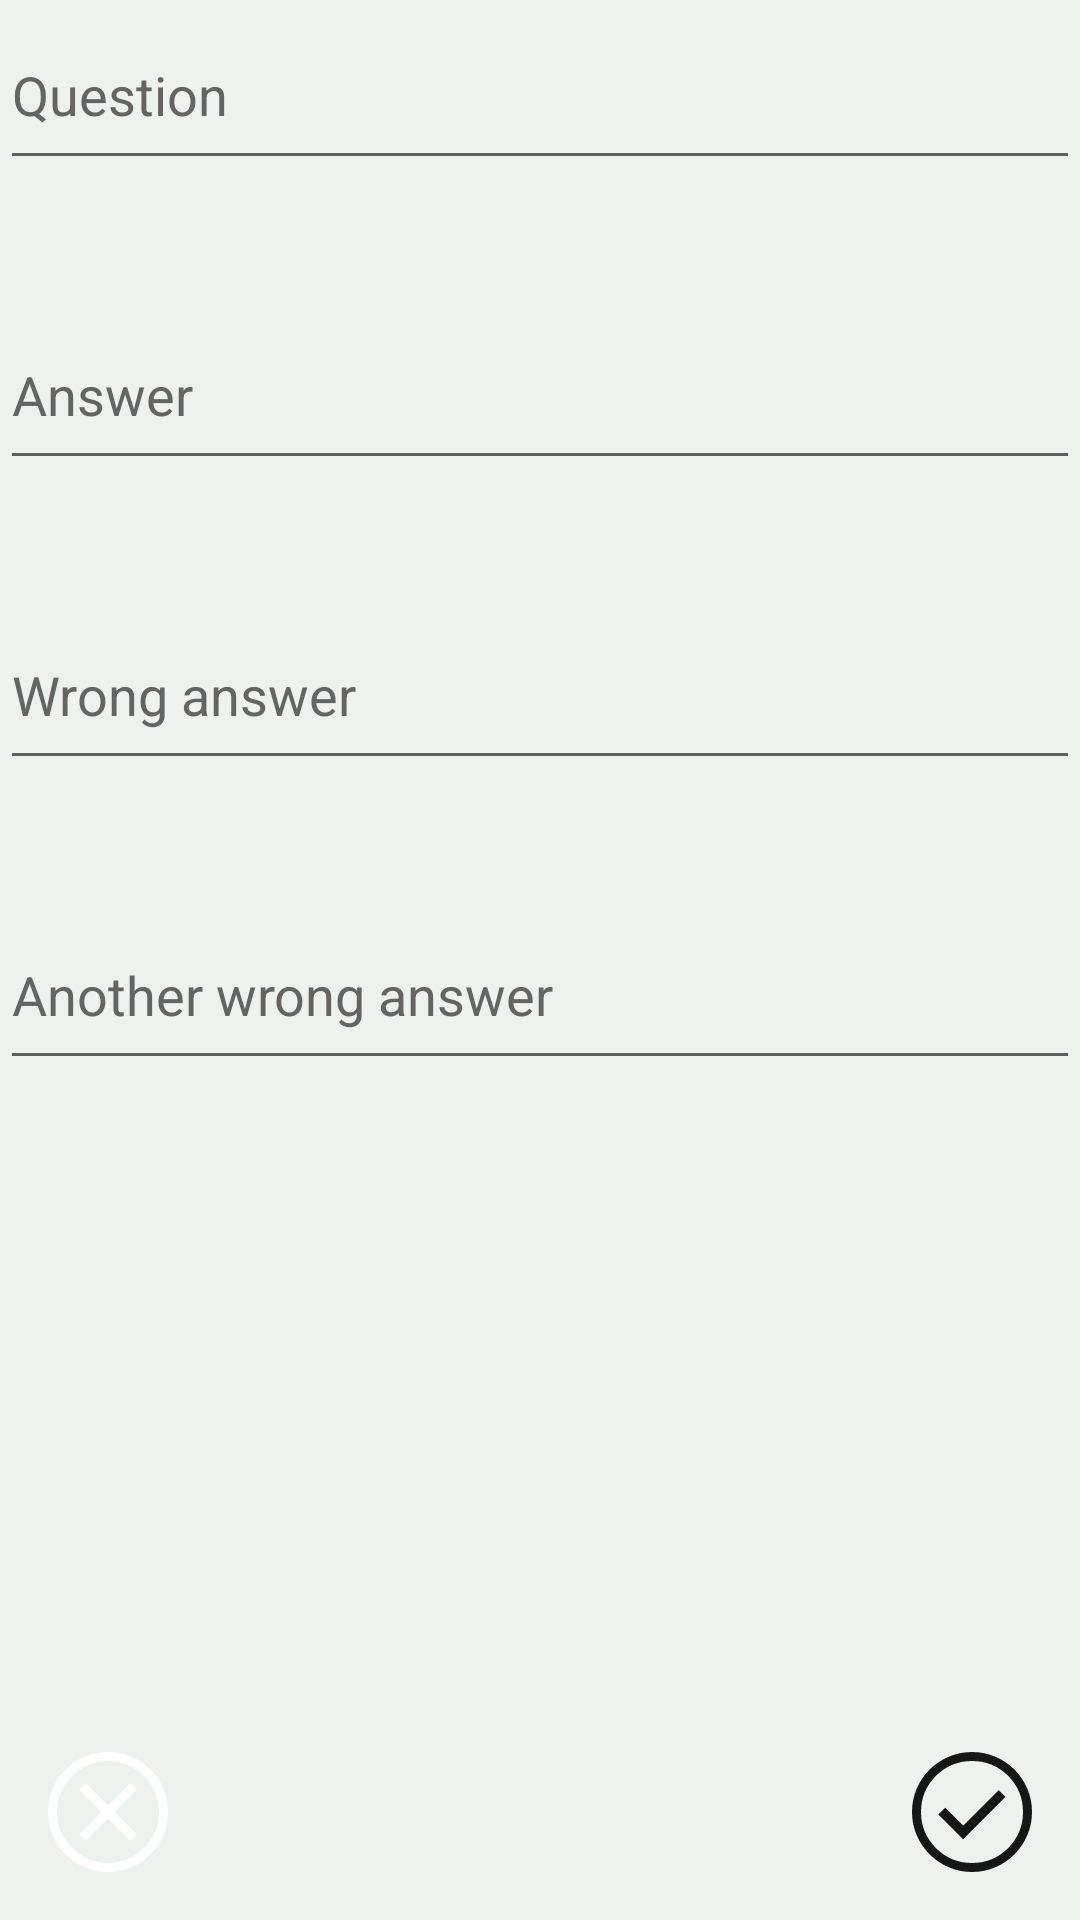

Locate icon controls on the screen. Image size 1080px×1920px, boxes as {"x1": x1, "y1": y1, "x2": x2, "y2": y2}.
check circle: {"x1": 912, "y1": 1752, "x2": 1032, "y2": 1872}
